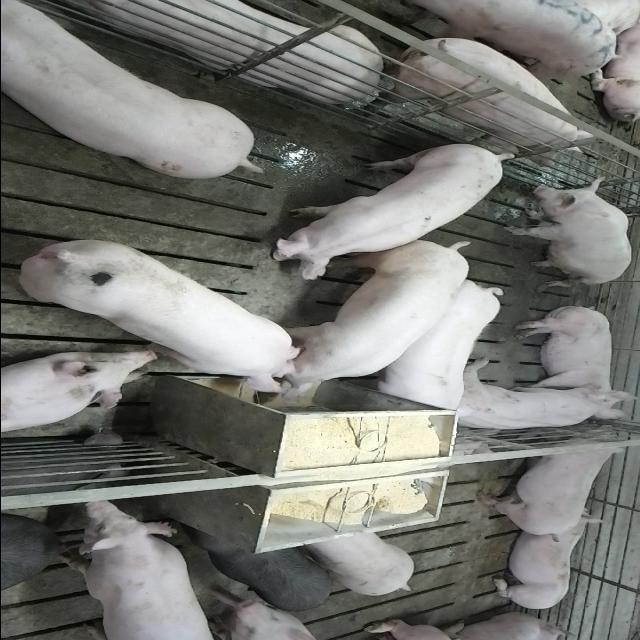Feeding: (15, 237, 307, 401), (256, 236, 473, 408)
Lateral_lying: (510, 302, 630, 393)
Sitting: (501, 177, 633, 285), (445, 368, 631, 435)
Standing: (0, 0, 256, 176), (265, 140, 519, 274), (364, 28, 604, 158), (58, 500, 226, 639), (362, 0, 608, 80), (367, 278, 508, 414), (474, 436, 630, 540), (180, 528, 336, 610), (300, 530, 414, 596), (2, 514, 58, 602)
Sternal_lying: (0, 351, 158, 436), (488, 519, 606, 611)
